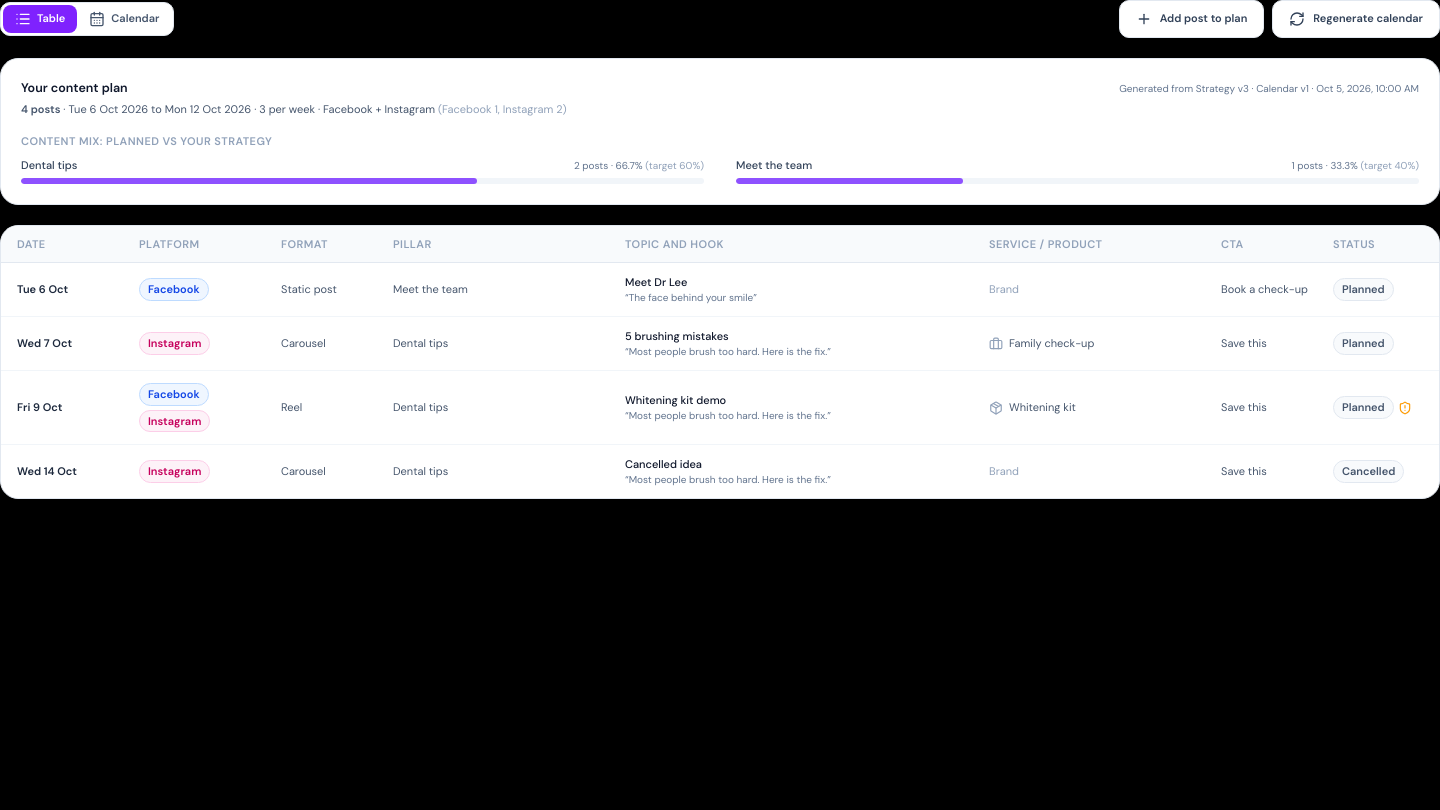
Content plan — a ready calendar › the modal closes with Escape (nothing unsaved, so no confirmation)
Click the button with test id "plan-row-i1".
click(720, 290)  # box [1, 263, 1439, 316]
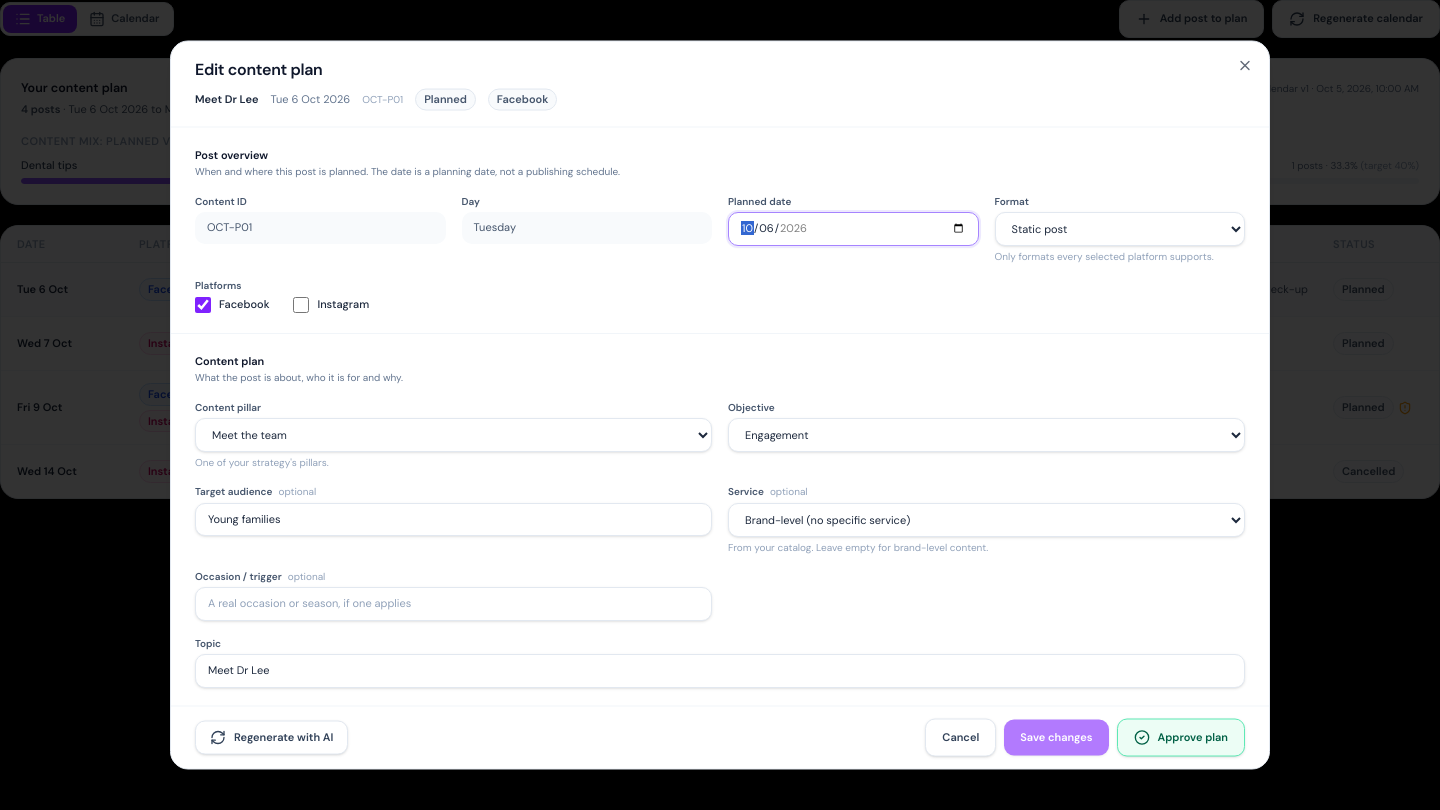
Result: the dialog with test id "item-modal" is shown
Press Escape in the date field labelled "Planned date", box [728, 211, 978, 245]
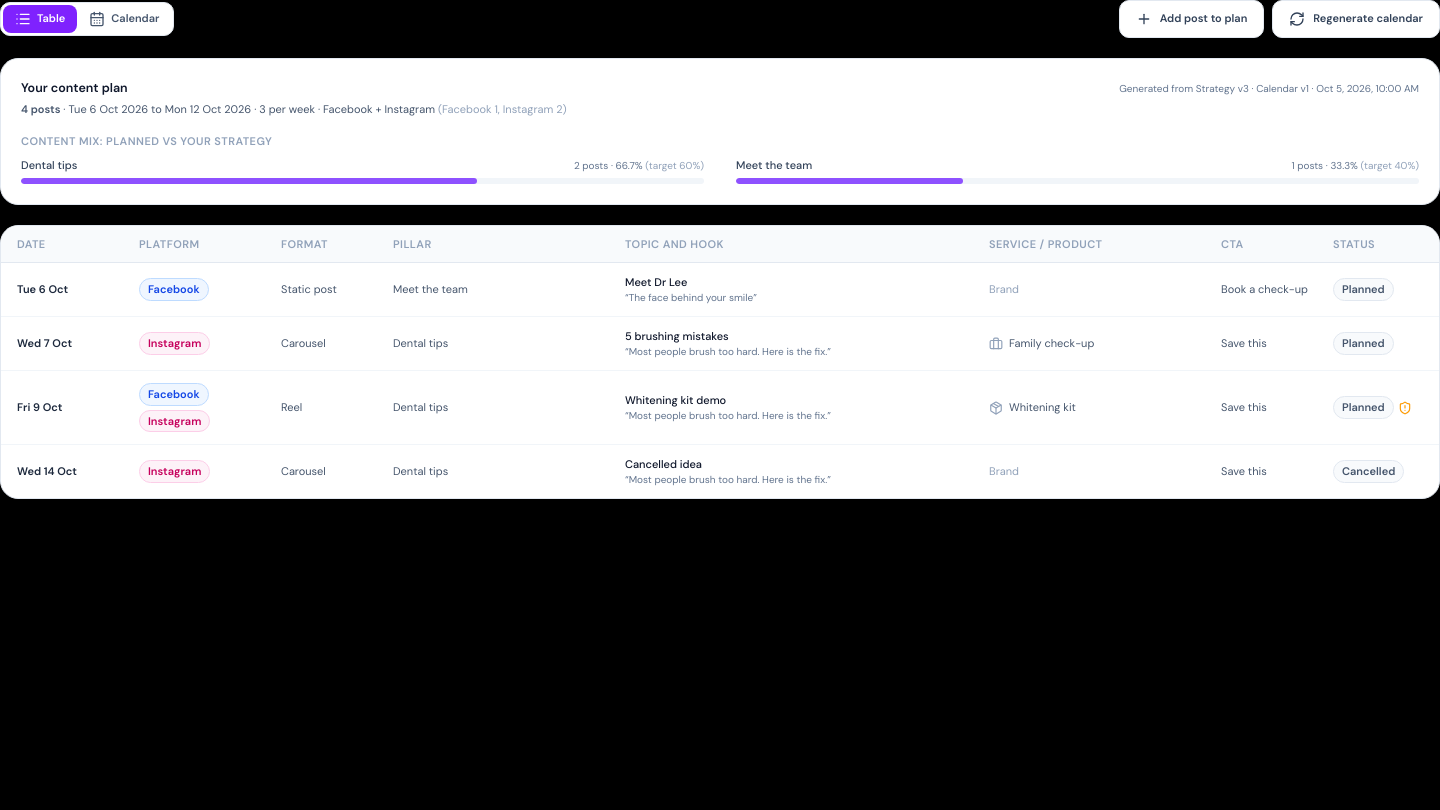
Result: the dialog with test id "item-modal" is gone
